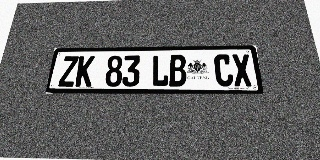3: (122, 55, 140, 87)
8: (104, 55, 124, 87)
B: (169, 55, 187, 87)
C: (213, 54, 234, 86)
K: (75, 56, 95, 87)
L: (151, 55, 169, 87)
X: (231, 54, 253, 86)
Z: (58, 56, 79, 87)
